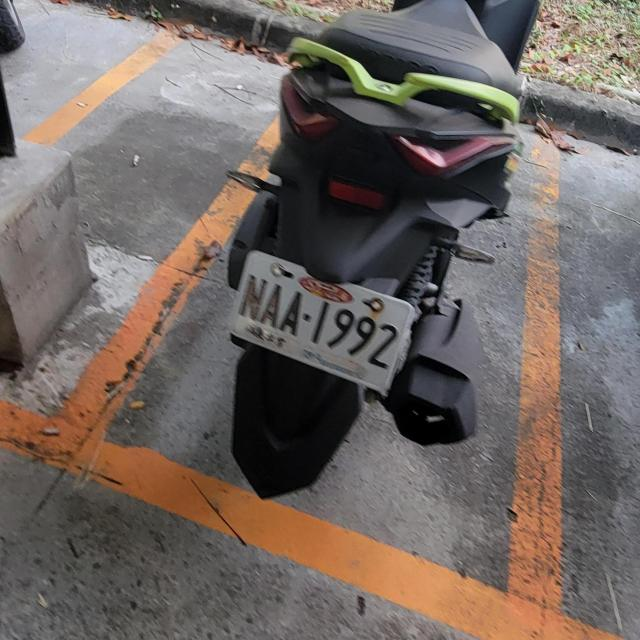W: (219, 240, 424, 397)
